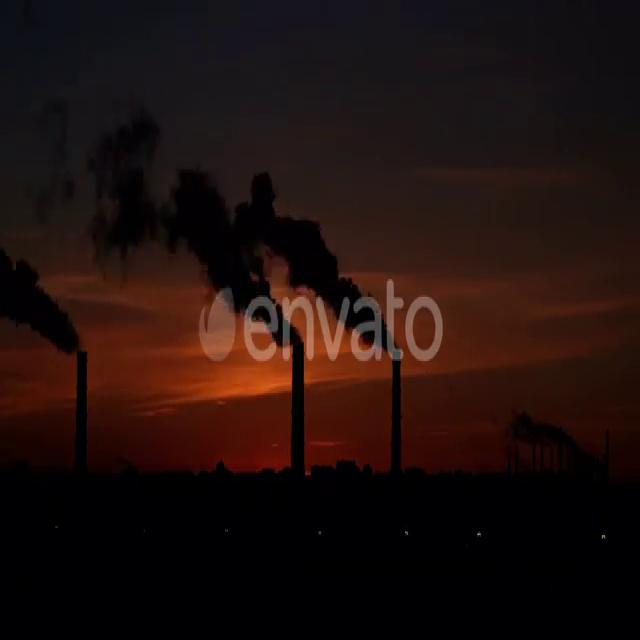smoke: (93, 128, 303, 347), (236, 172, 398, 352), (0, 247, 79, 356)
